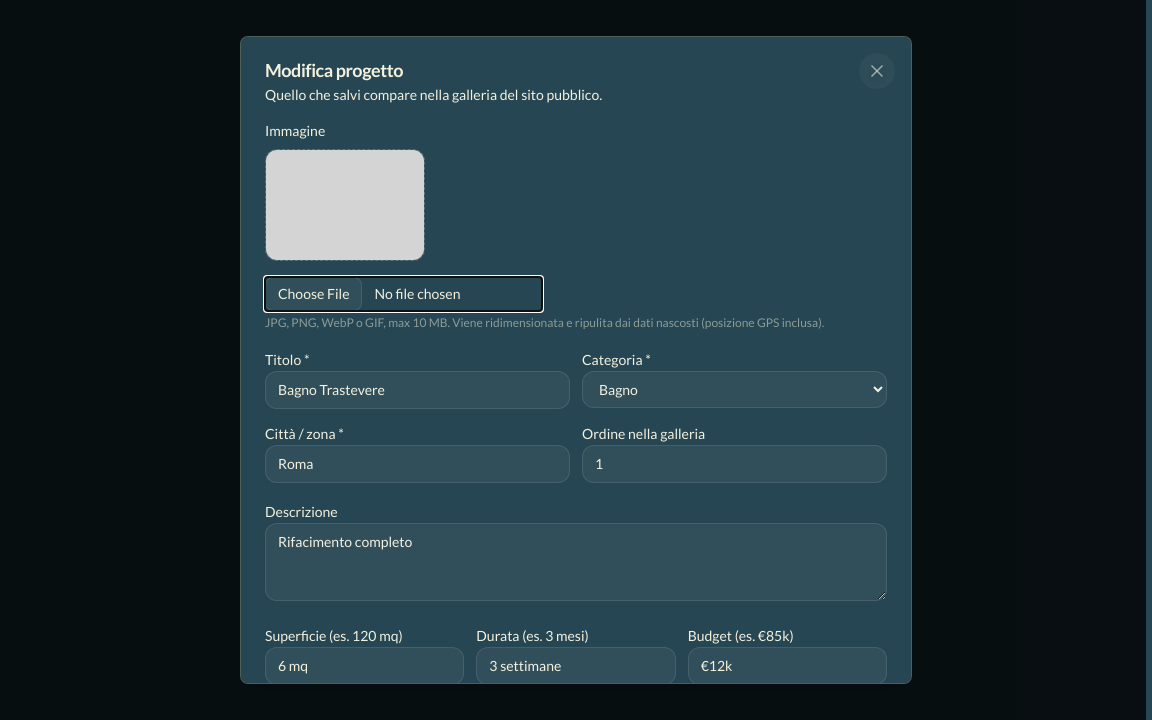
PortfolioForm › editing validates too: a cleared title is explained, not left to a generic server error
Clear the field with test id "portfolio-title" at (418, 390), box [265,371,570,409]
(page scrolled)
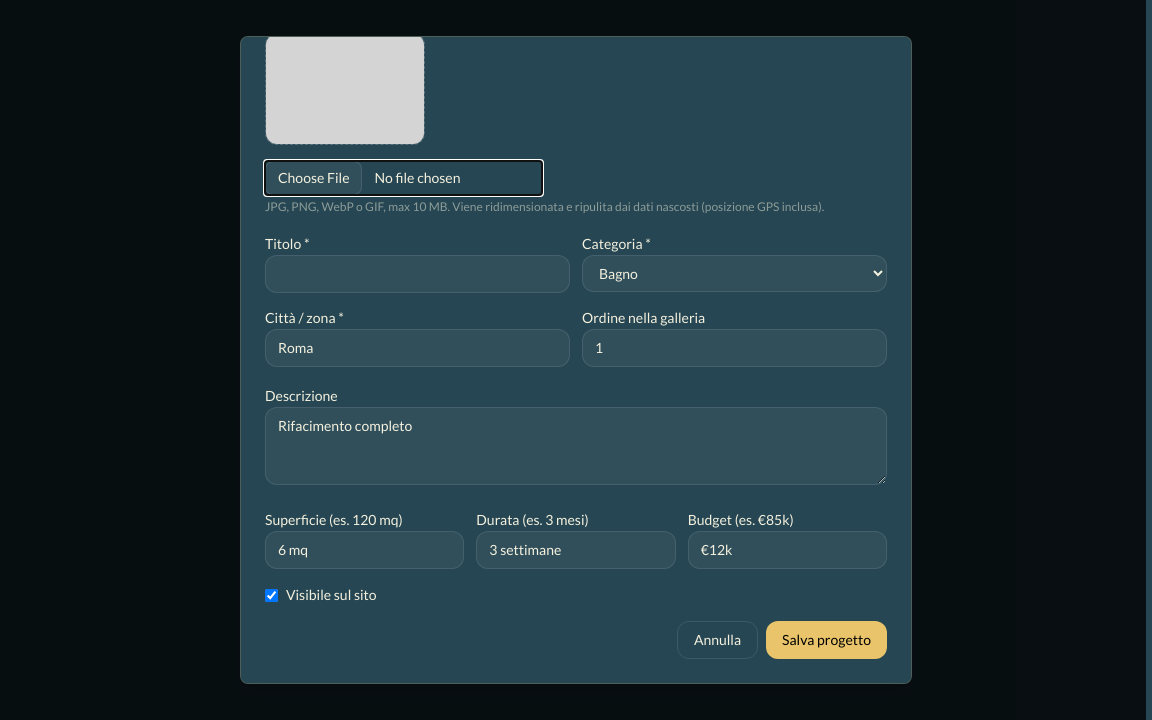
Click the button with test id "portfolio-save".
click(826, 640)  # box [766,621,887,659]
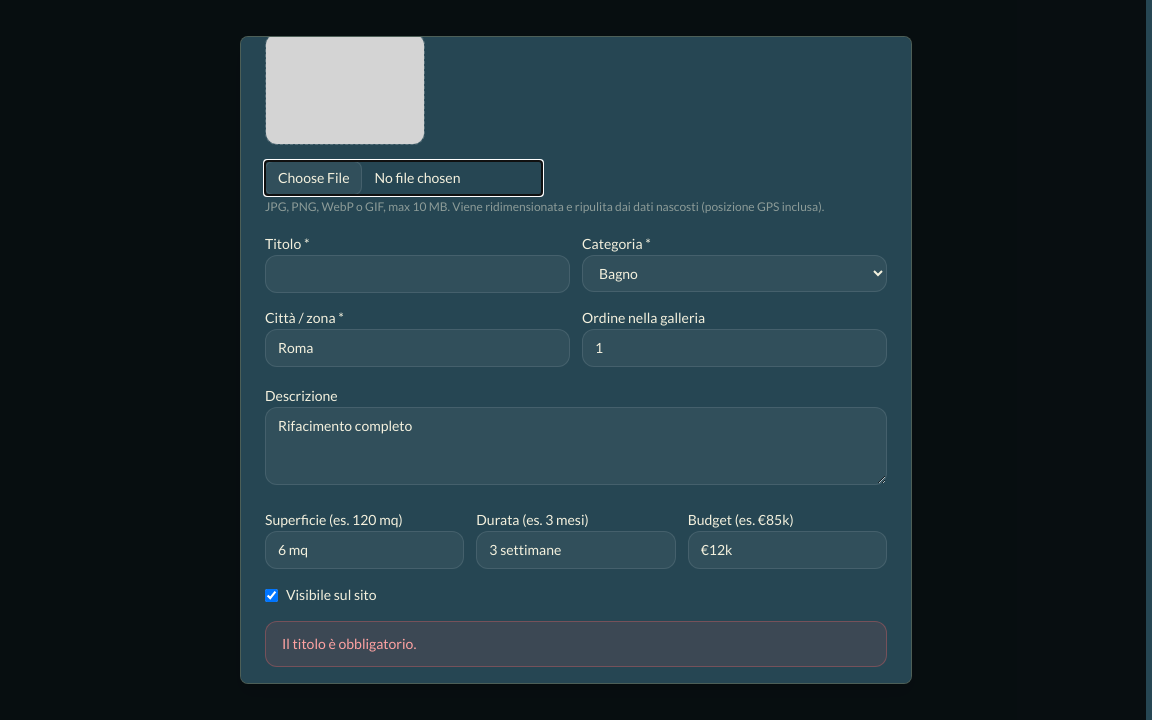
expect the message with test id "portfolio-problems" shows "Il titolo è obbligatorio": met, box [282,635,416,652]
